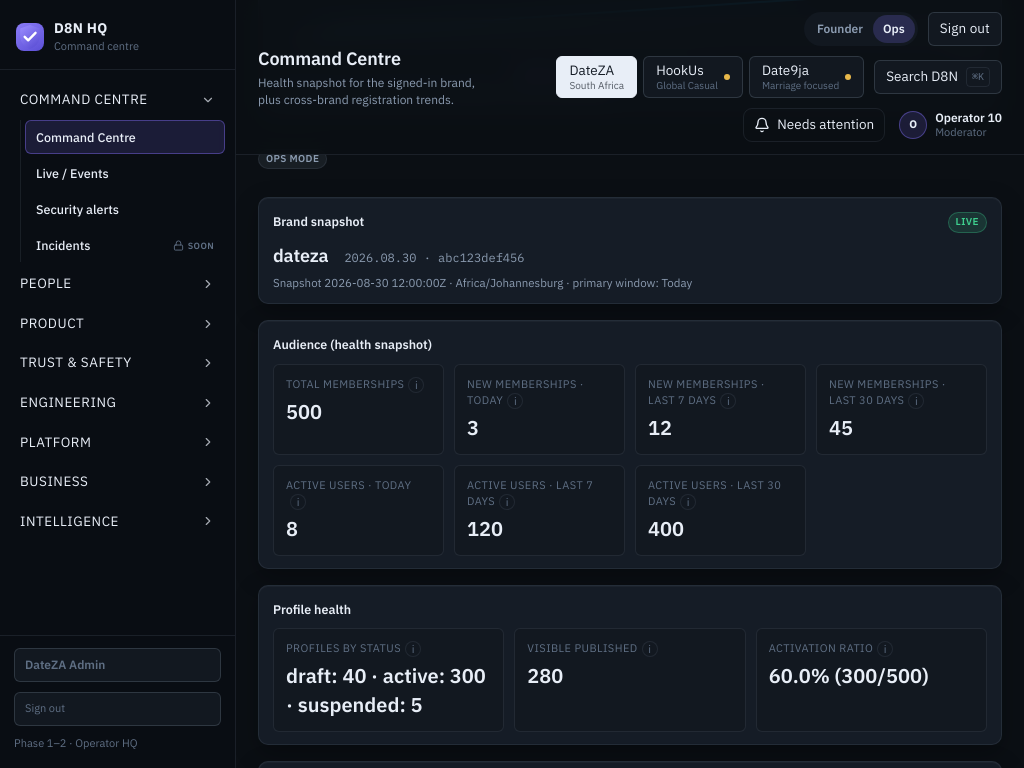
Test case: D8N HQ Phase 1 integration › shows metric definition on info interaction
(page scrolled)
Expected: the text "Total memberships i" is shown, 286,377 -> 404,391
Click the button named "definition for memberships.total" at [416, 385], box 408,377 -> 424,393
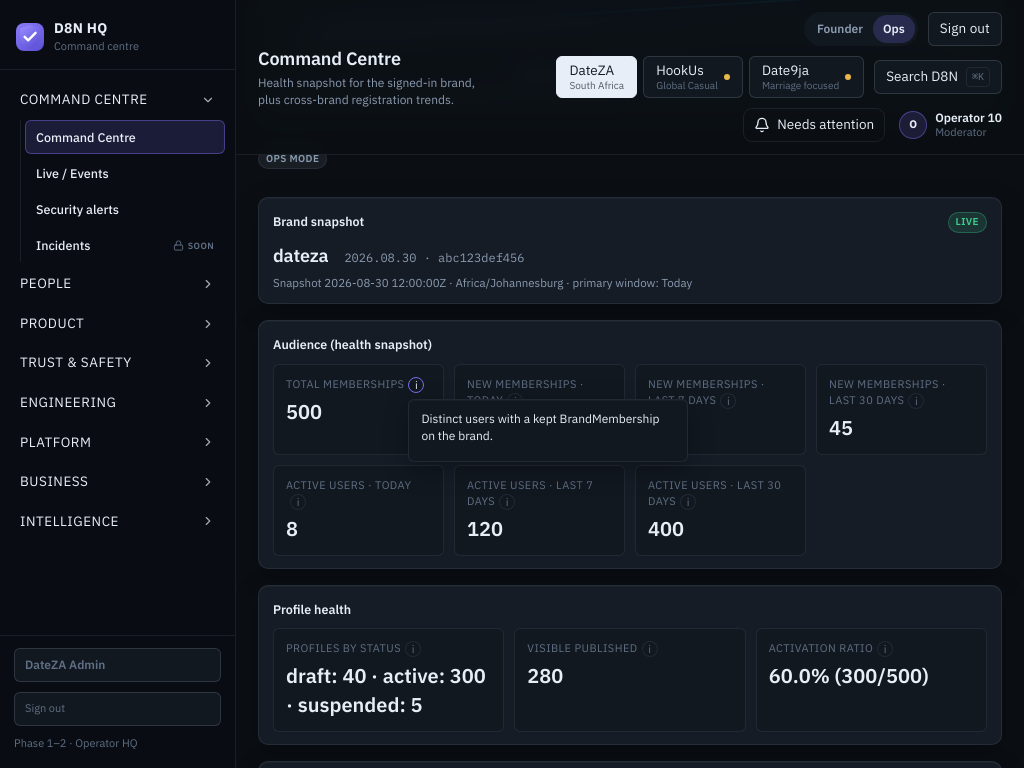
Now the text "Distinct users with a kept BrandMembership on the brand." is shown, box 421,411 -> 659,443
